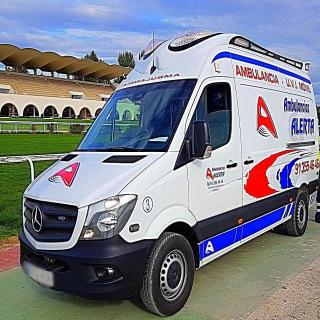Ambulance: (16, 21, 320, 316)
